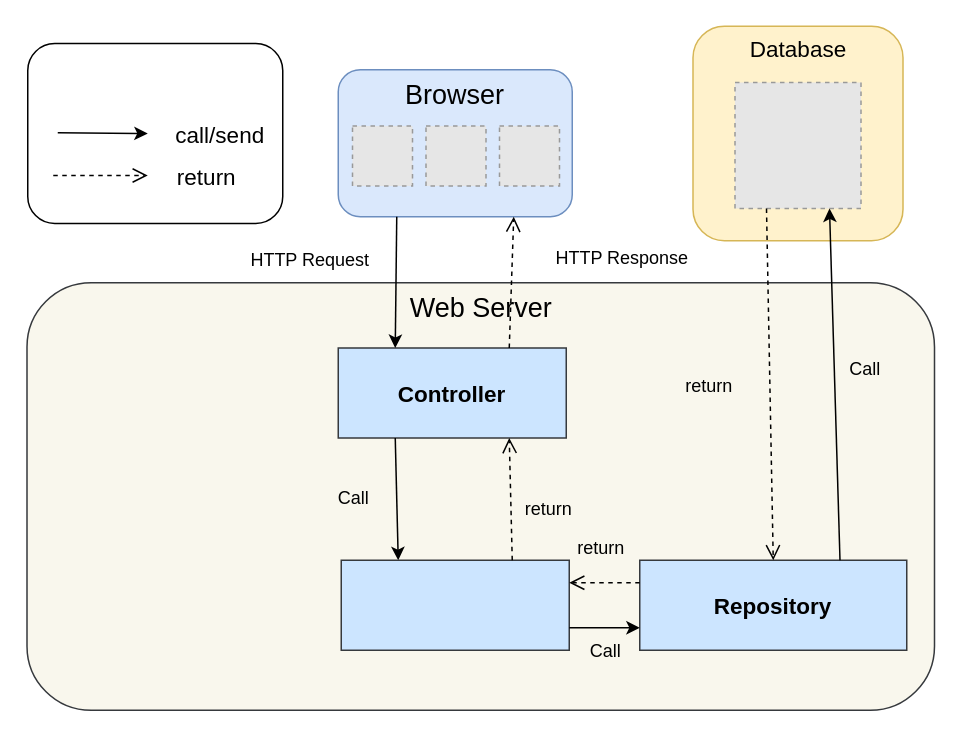
This 960x737 diagram has some shape labels left out. Grey dashed boxes stand in for pictures. The centre of each missing label's shape, as x and y in pixels:
Annotation: [154,133]
Service: [454,604]
